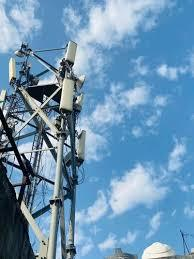Microwave Antenna: (78, 73, 87, 90), (79, 93, 85, 118), (13, 48, 26, 59)
antenna: (60, 76, 76, 119), (64, 37, 76, 66), (6, 58, 16, 83)
